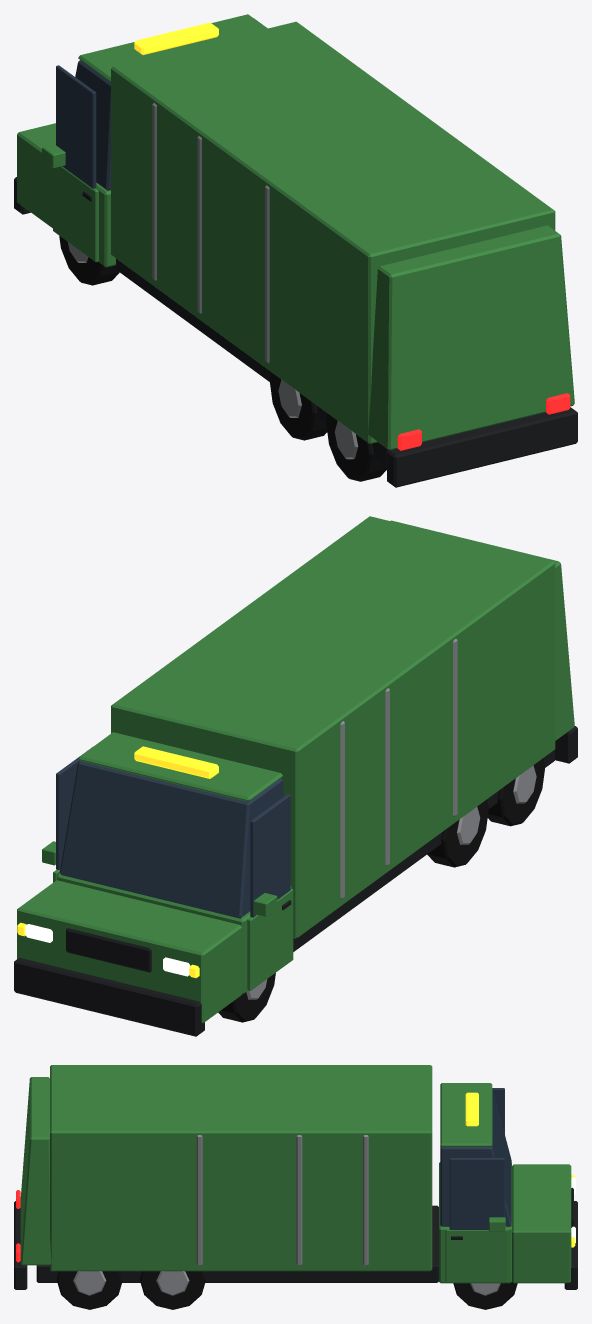
Rendered from car_garbage.glb.
The picture shows the model from 3 angles, top to bottom: view 1: azimuth 30°, elevation 25°; view 2: azimuth 150°, elevation 25°; view 3: azimuth 270°, elevation 25°; orthographic projection. The views are drawn at different scales.
Visible parts, largest first — view 1: car_body, car_door_FL; view 2: car_body, car_door_FL, car_door_FR; view 3: car_body, car_door_FR.
Boxes of the visible parts, x1=… form: car_body: x1=14, y1=14, x2=577, y2=487; car_door_FL: x1=42, y1=65, x2=98, y2=262; car_body: x1=14, y1=516, x2=577, y2=1036; car_door_FL: x1=247, y1=794, x2=293, y2=990; car_door_FR: x1=42, y1=747, x2=92, y2=882; car_body: x1=14, y1=1065, x2=577, y2=1309; car_door_FR: x1=445, y1=1158, x2=508, y2=1282.
Size of the model in its own units: 2.88 by 3 by 8.48.
